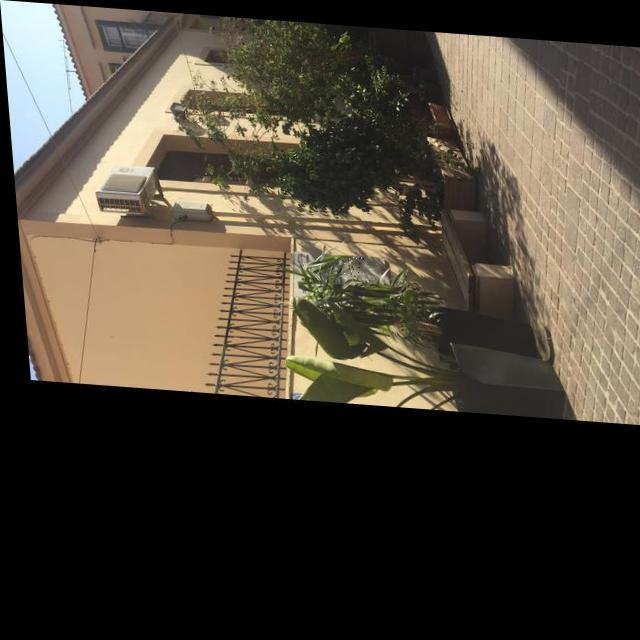-: (337, 250, 364, 274)
